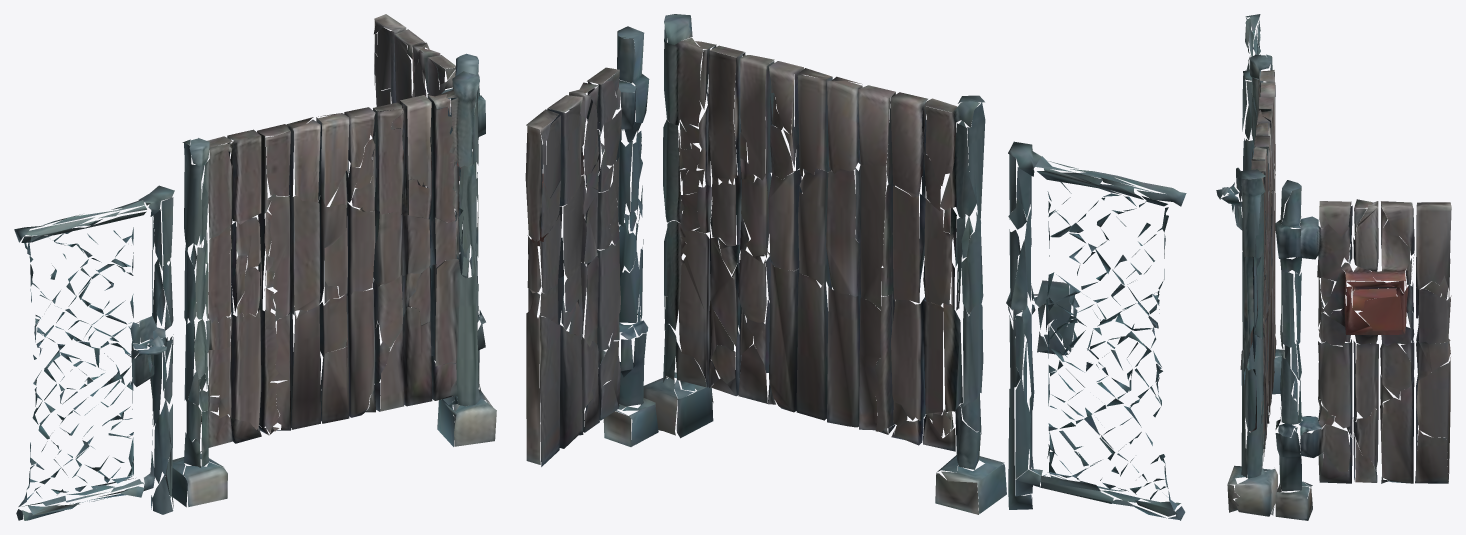
Rendered from infra17.glb.
3 renders of one model, left to right at view 1: azimuth 30°, elevation 25°; view 2: azimuth 150°, elevation 25°; view 3: azimuth 270°, elevation 25°, orthographic. The views are drawn at different scales.
Parts seen in each view (by area): view 1: tripo_node_403ca302-fad0-42b9-abaf-fcec39e53f8c; view 2: tripo_node_403ca302-fad0-42b9-abaf-fcec39e53f8c; view 3: tripo_node_403ca302-fad0-42b9-abaf-fcec39e53f8c.
Boxes of the visible parts, x1,y1,x2,y2 form: tripo_node_403ca302-fad0-42b9-abaf-fcec39e53f8c: (14,14,496,520); tripo_node_403ca302-fad0-42b9-abaf-fcec39e53f8c: (525,14,1186,520); tripo_node_403ca302-fad0-42b9-abaf-fcec39e53f8c: (1216,14,1451,520).
Bounding box in the file's own units: 1 × 0.6919 × 0.4449.
1 material, 1 textured.
